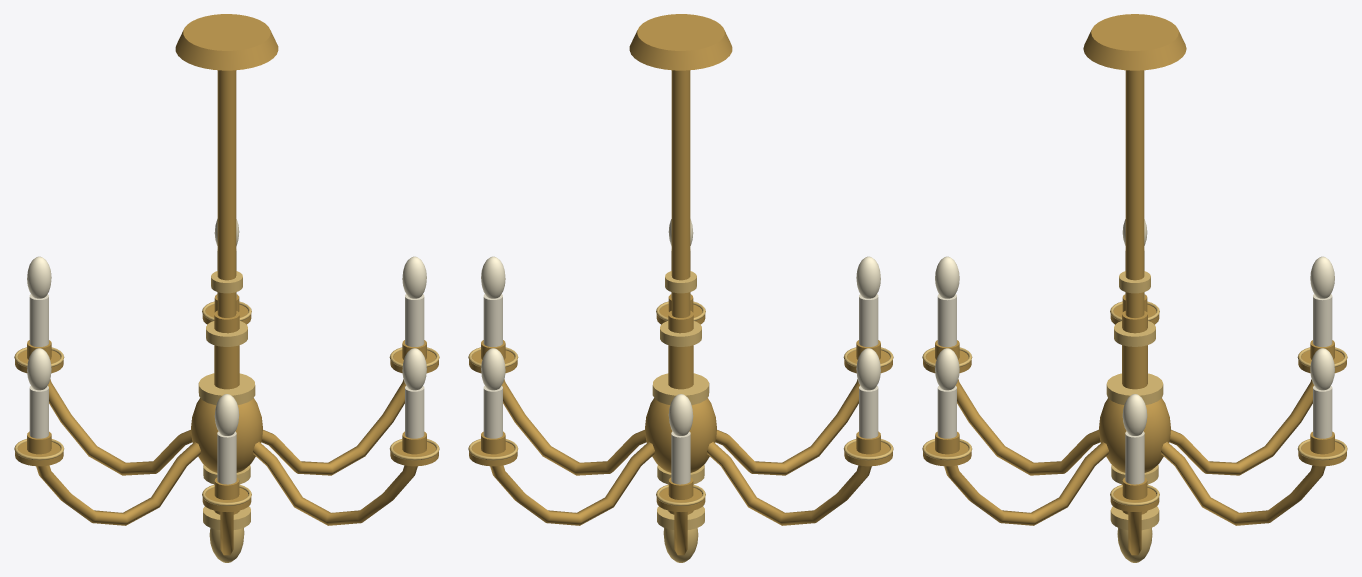
The model's file is chandelier_brass_candle.glb.
The picture shows the model from 3 angles, left to right: view 1: azimuth 30°, elevation 25°; view 2: azimuth 150°, elevation 25°; view 3: azimuth 270°, elevation 25°; orthographic projection.
Parts seen in each view (by area): view 1: Ceiling canopy, Ceiling suspension stem, Main turned brass hub, Sweeping brass arm 4, Sweeping brass arm 6, Sweeping brass arm 1, Sweeping brass arm 3, Lower turned stem, Turned stem collar.002, Arm 5 ivory candle sleeve, Arm 1 ivory candle sleeve, Arm 3 ivory candle sleeve (+14 smaller); view 2: Ceiling canopy, Ceiling suspension stem, Main turned brass hub, Sweeping brass arm 2, Sweeping brass arm 4, Sweeping brass arm 1, Sweeping brass arm 5, Lower turned stem, Turned stem collar.002, Arm 3 ivory candle sleeve, Arm 1 ivory candle sleeve, Arm 2 ivory candle sleeve (+14 smaller); view 3: Ceiling canopy, Ceiling suspension stem, Main turned brass hub, Sweeping brass arm 2, Sweeping brass arm 6, Sweeping brass arm 3, Sweeping brass arm 5, Lower turned stem, Turned stem collar.002, Arm 1 ivory candle sleeve, Arm 3 ivory candle sleeve, Arm 5 ivory candle sleeve (+14 smaller).
Boxes of the visible parts, bbox=[...] form: Ceiling canopy: bbox=[175, 14, 278, 70]; Ceiling suspension stem: bbox=[217, 70, 236, 317]; Main turned brass hub: bbox=[191, 398, 262, 472]; Sweeping brass arm 4: bbox=[36, 441, 200, 525]; Sweeping brass arm 6: bbox=[253, 441, 417, 525]; Sweeping brass arm 1: bbox=[261, 379, 406, 475]; Sweeping brass arm 3: bbox=[48, 379, 192, 475]; Lower turned stem: bbox=[214, 310, 239, 514]; Turned stem collar.002: bbox=[198, 373, 255, 405]; Arm 5 ivory candle sleeve: bbox=[217, 431, 236, 484]; Arm 1 ivory candle sleeve: bbox=[405, 294, 424, 346]; Arm 3 ivory candle sleeve: bbox=[29, 294, 48, 346]; Ceiling canopy: bbox=[629, 14, 732, 70]; Ceiling suspension stem: bbox=[671, 70, 690, 317]; Main turned brass hub: bbox=[645, 398, 716, 472]; Sweeping brass arm 2: bbox=[490, 441, 654, 525]; Sweeping brass arm 4: bbox=[707, 441, 871, 525]; Sweeping brass arm 1: bbox=[501, 379, 646, 475]; Sweeping brass arm 5: bbox=[715, 379, 859, 475]; Lower turned stem: bbox=[668, 310, 693, 514]; Turned stem collar.002: bbox=[652, 373, 709, 405]; Arm 3 ivory candle sleeve: bbox=[671, 431, 690, 484]; Arm 1 ivory candle sleeve: bbox=[483, 294, 502, 346]; Arm 2 ivory candle sleeve: bbox=[483, 385, 502, 438]; Ceiling canopy: bbox=[1083, 14, 1186, 70]; Ceiling suspension stem: bbox=[1125, 70, 1144, 317]; Main turned brass hub: bbox=[1099, 398, 1170, 472]; Sweeping brass arm 2: bbox=[1161, 441, 1325, 525]; Sweeping brass arm 6: bbox=[944, 441, 1108, 525]; Sweeping brass arm 3: bbox=[1169, 379, 1314, 475]; Sweeping brass arm 5: bbox=[955, 379, 1100, 475]; Lower turned stem: bbox=[1122, 311, 1147, 514]; Turned stem collar.002: bbox=[1106, 373, 1163, 404]; Arm 1 ivory candle sleeve: bbox=[1125, 431, 1144, 484]; Arm 3 ivory candle sleeve: bbox=[1313, 294, 1332, 347]; Arm 5 ivory candle sleeve: bbox=[937, 294, 956, 347].
Bounding box in the file's own units: 0.937 × 1.13 × 0.8245.
